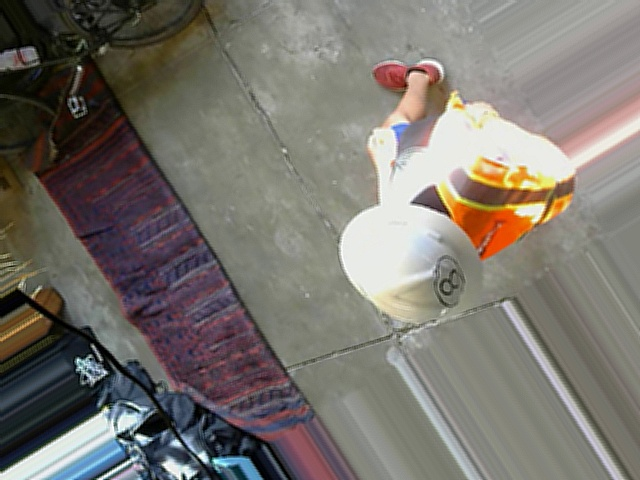eight: (418, 250, 474, 310)
